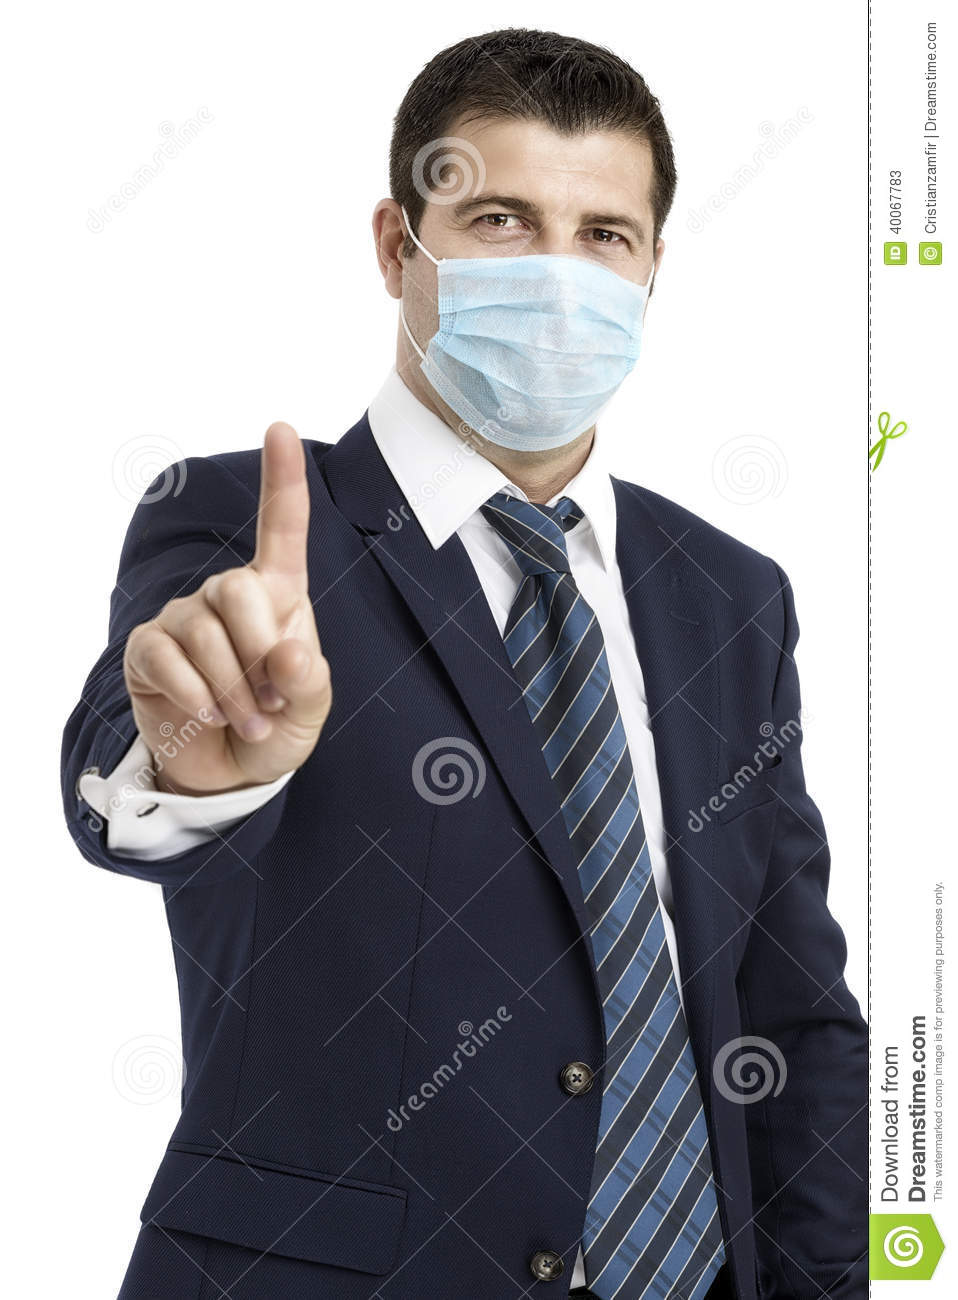mask: (425, 259, 642, 457)
